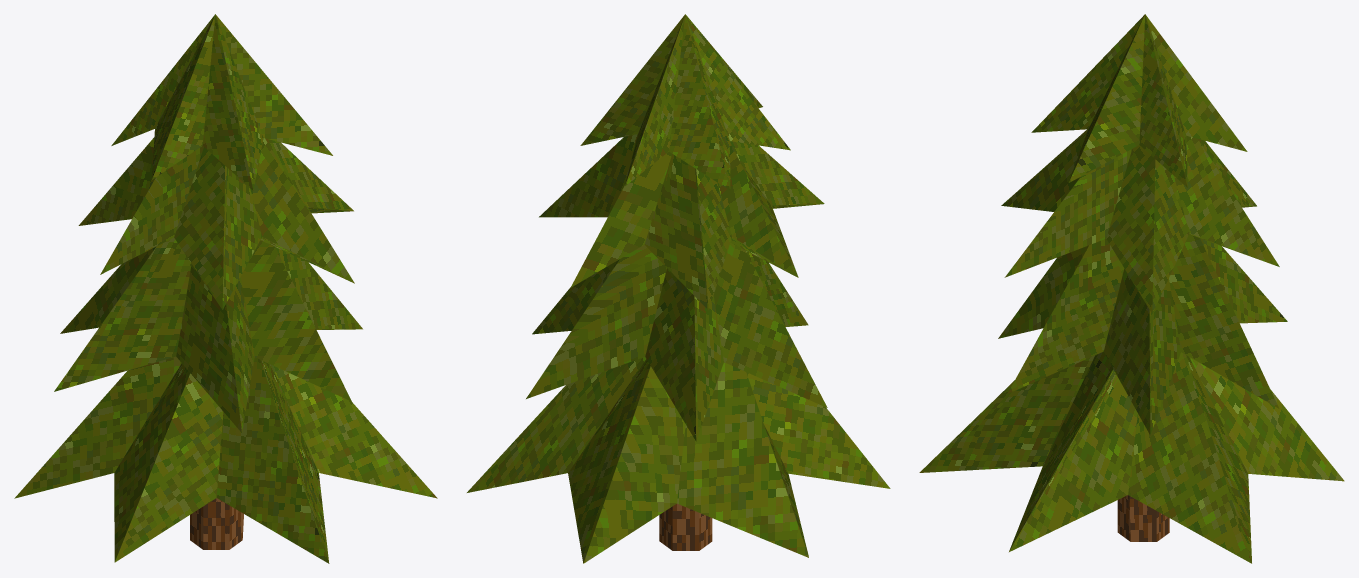
The model's file is SpruceTreeTall.obj.
3 renders of one model, left to right at view 1: azimuth 30°, elevation 25°; view 2: azimuth 150°, elevation 25°; view 3: azimuth 270°, elevation 25°, orthographic.
Parts seen in each view (by area): view 1: Tree4B; view 2: Tree4B; view 3: Tree4B.
Boxes of the visible parts, left/top/right/bottom form: Tree4B: left=14, top=14, right=437, bottom=563; Tree4B: left=467, top=14, right=890, bottom=563; Tree4B: left=919, top=14, right=1344, bottom=563.
Bounding box in the file's own units: 9.77 × 15.04 × 11.2.
